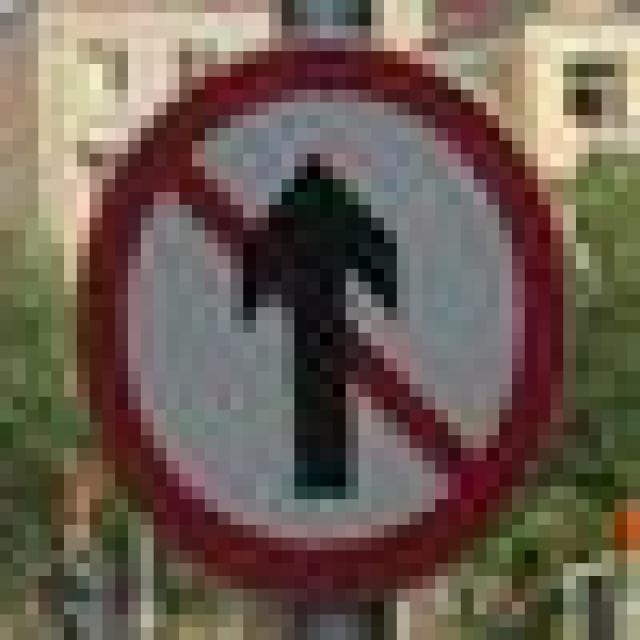straight prohibited: (80, 35, 569, 618)
